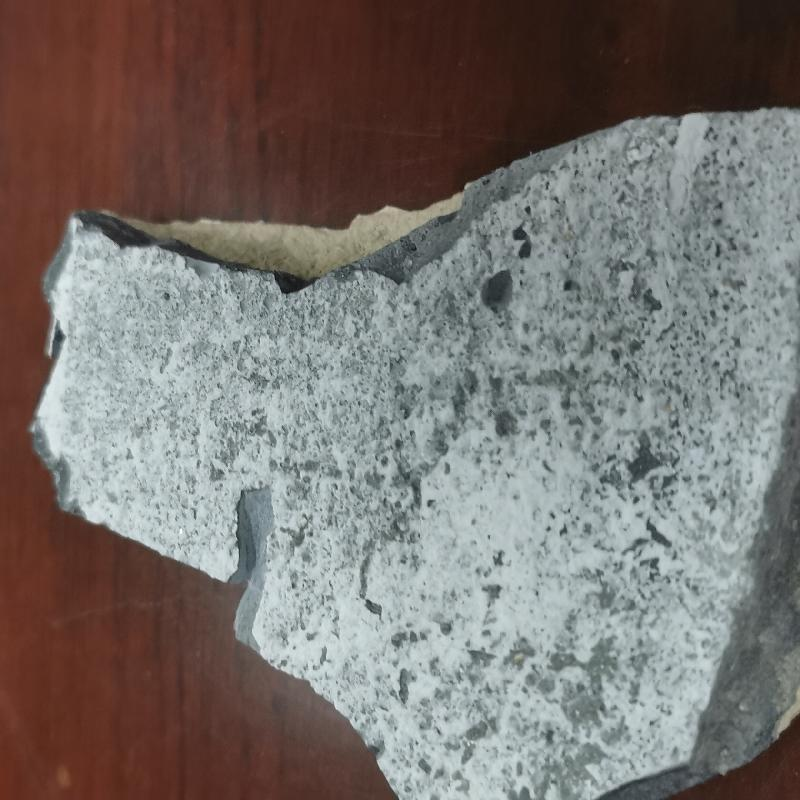tile: (29, 103, 799, 799)
